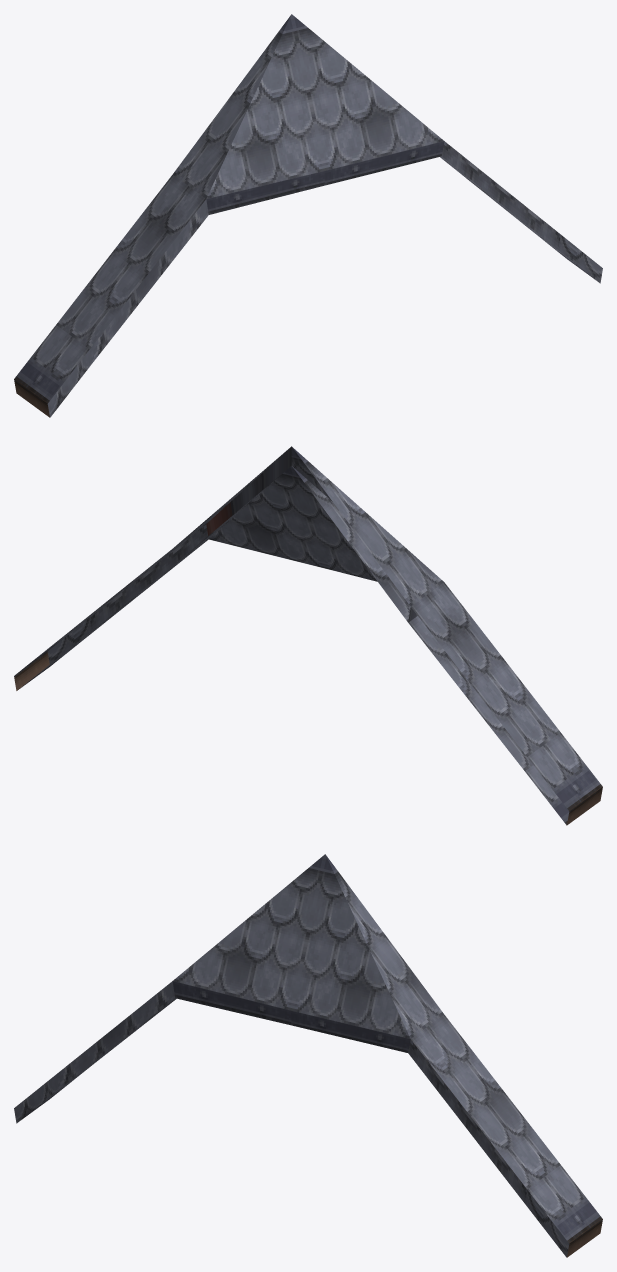
File: roof_blue_end.glb
3 renders of one model, top to bottom at view 1: azimuth 30°, elevation 25°; view 2: azimuth 150°, elevation 25°; view 3: azimuth 330°, elevation 25°, orthographic.
Parts seen in each view (by area): view 1: roof_blue_end; view 2: roof_blue_end; view 3: roof_blue_end.
Boxes of the visible parts, x1,y1,x2,y2 form: roof_blue_end: (14,14,602,417); roof_blue_end: (14,446,602,825); roof_blue_end: (14,854,602,1257).
Bounding box in the file's own units: 4.76 × 2.56 × 0.5.
Materials: 1 (1 with a texture image).
